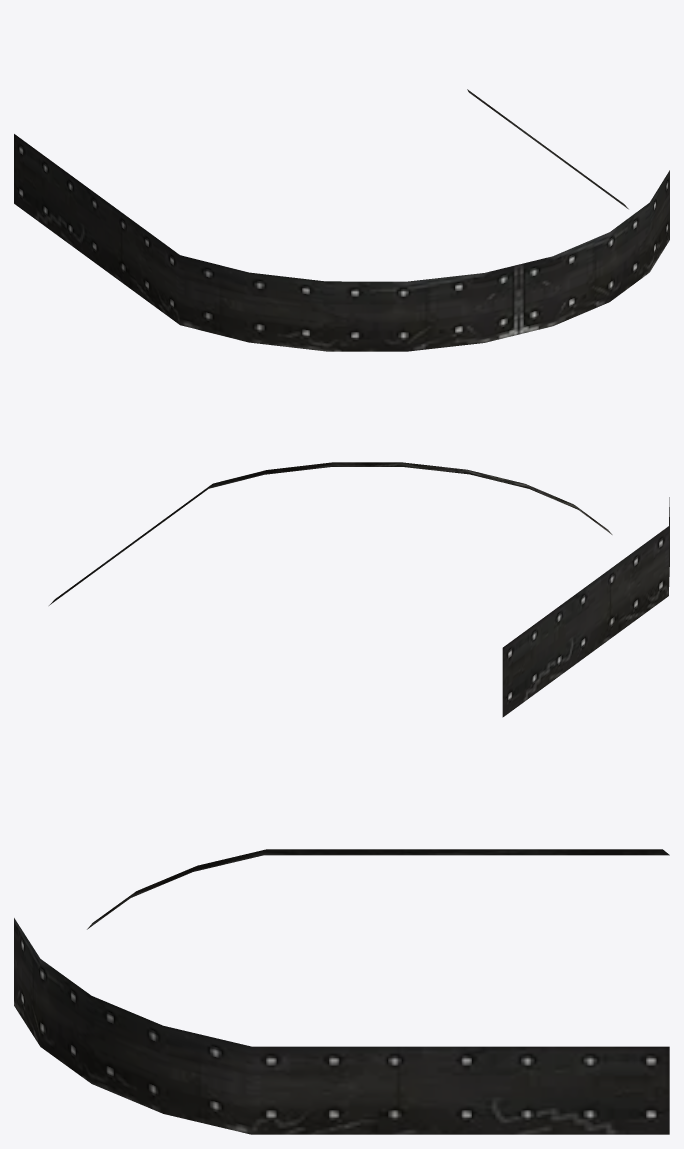
3 renders of one model, top to bottom at view 1: azimuth 30°, elevation 25°; view 2: azimuth 150°, elevation 25°; view 3: azimuth 270°, elevation 25°, orthographic. The views are drawn at different scales.
Parts seen in each view (by area): view 1: model_Object110; view 2: model_Object110; view 3: model_Object110.
Part boxes in pixels (box(x1,y1,x2,y2)): model_Object110: box(14, 89, 669, 351); model_Object110: box(49, 462, 669, 717); model_Object110: box(14, 849, 669, 1134).
Bounding box in the file's own units: 3.73 × 0.5114 × 3.45.
1 material, 1 textured.
